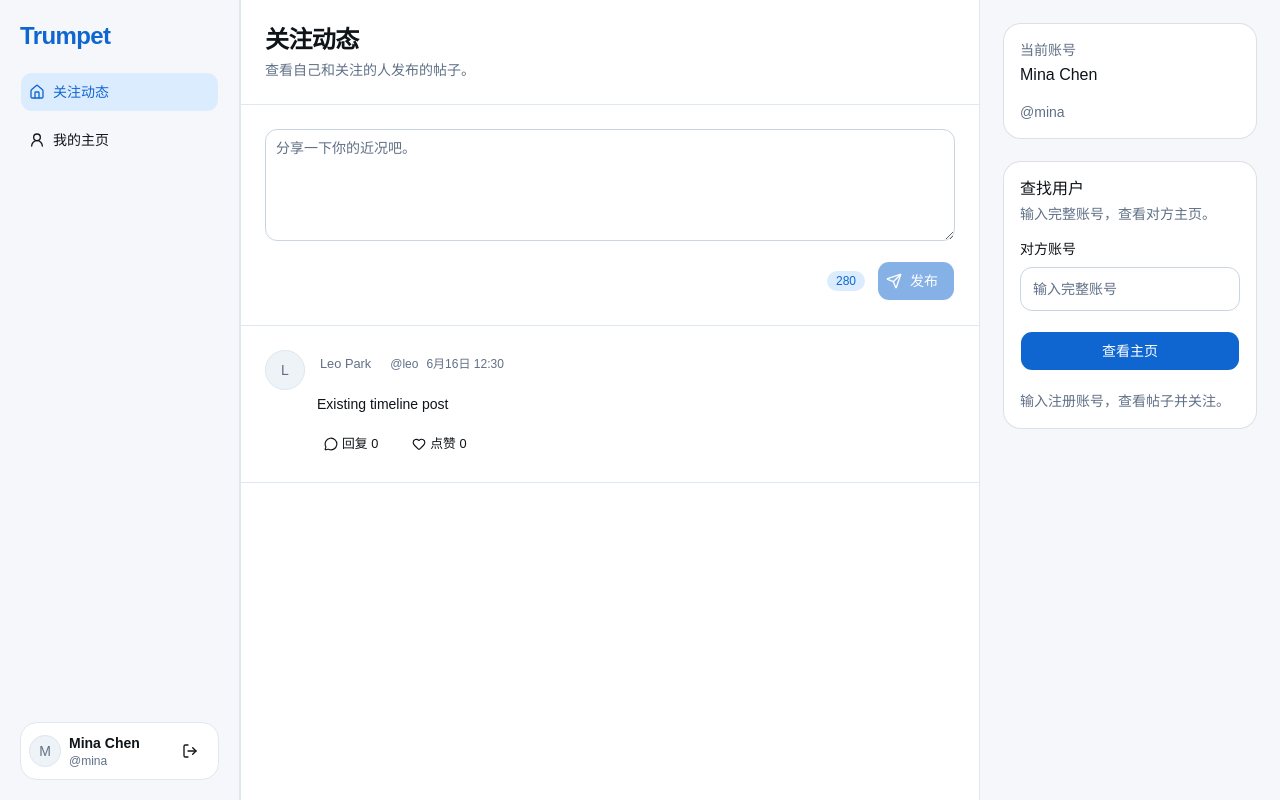
Test: App timeline interactions › creates replies and refreshes the timeline reply count
Expected: the text "Existing timeline post" is shown, [317,396,448,412]
Click the button "回复 0": (353, 444) [317,430,389,458]
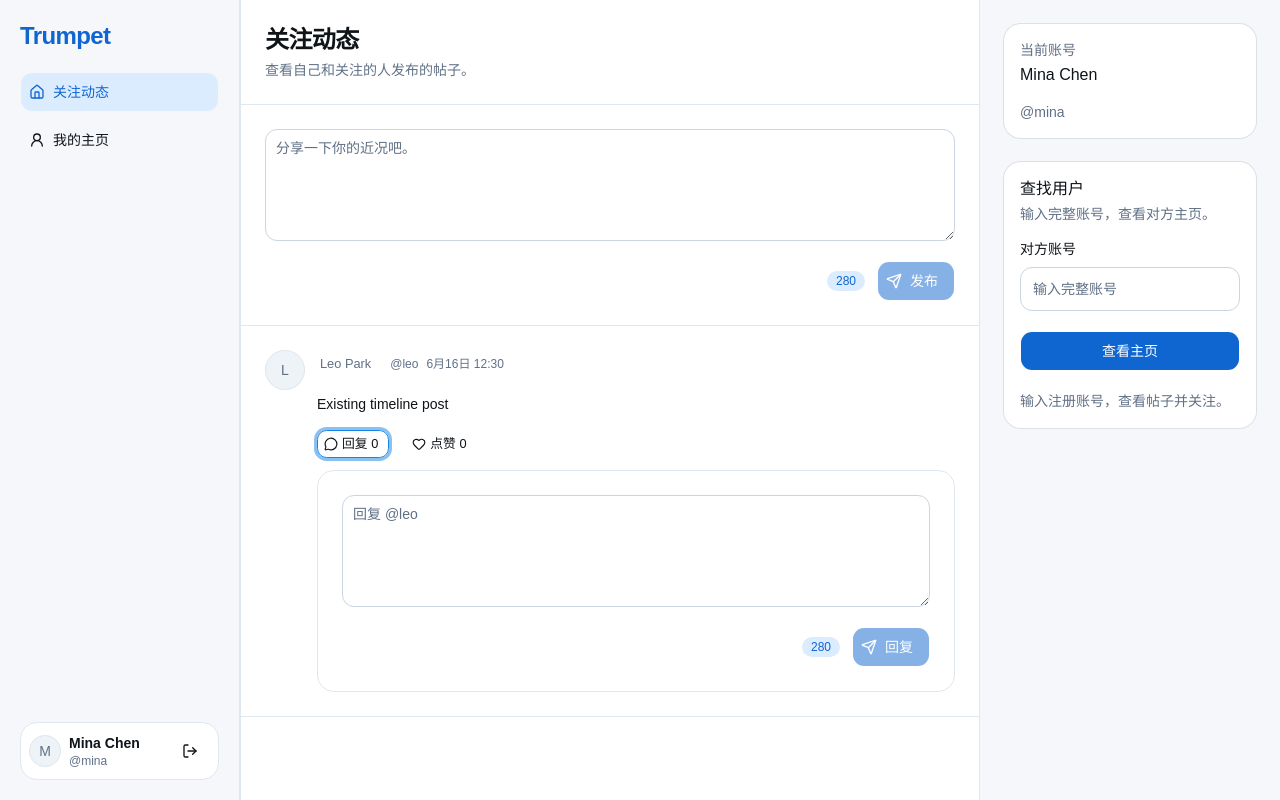
In the text box with placeholder "回复 @leo": (636, 551) [342,495,930,607], type "Reply body"
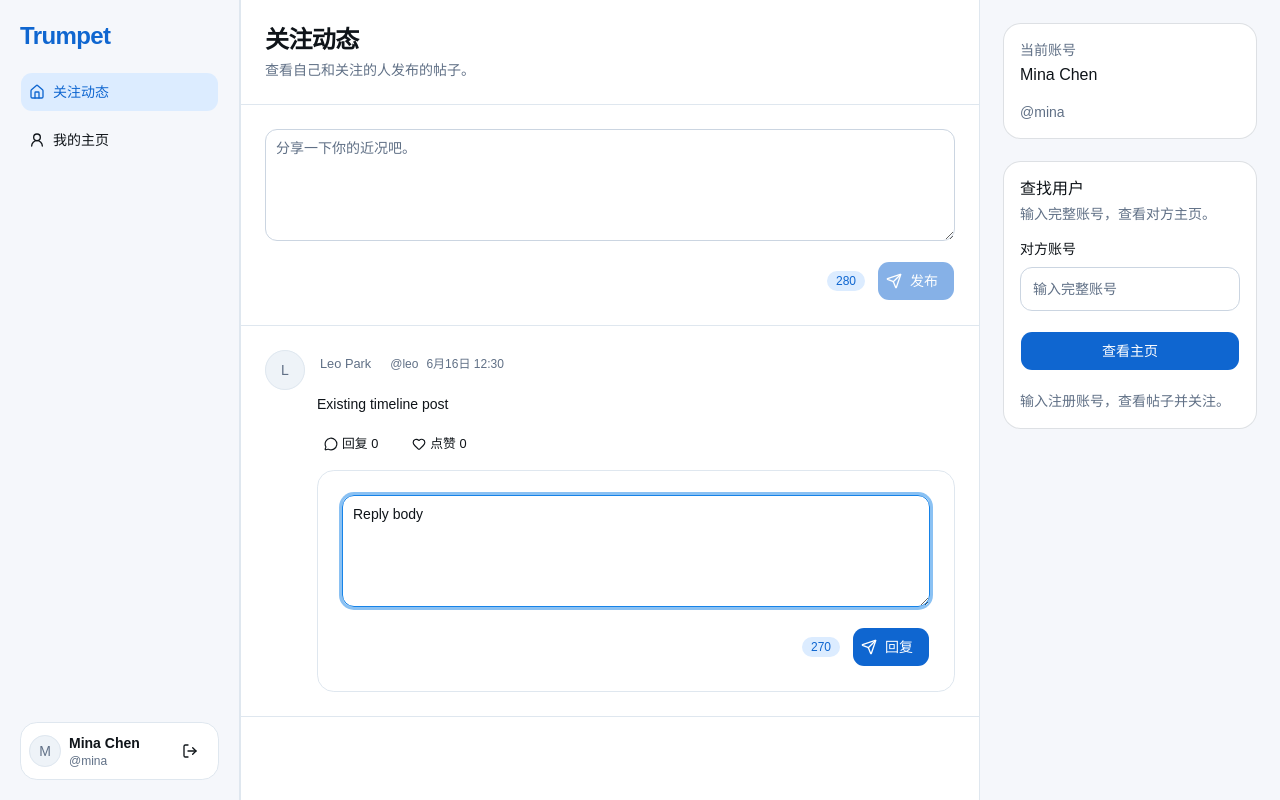
Click the button "回复": (891, 647) [852,627,930,667]
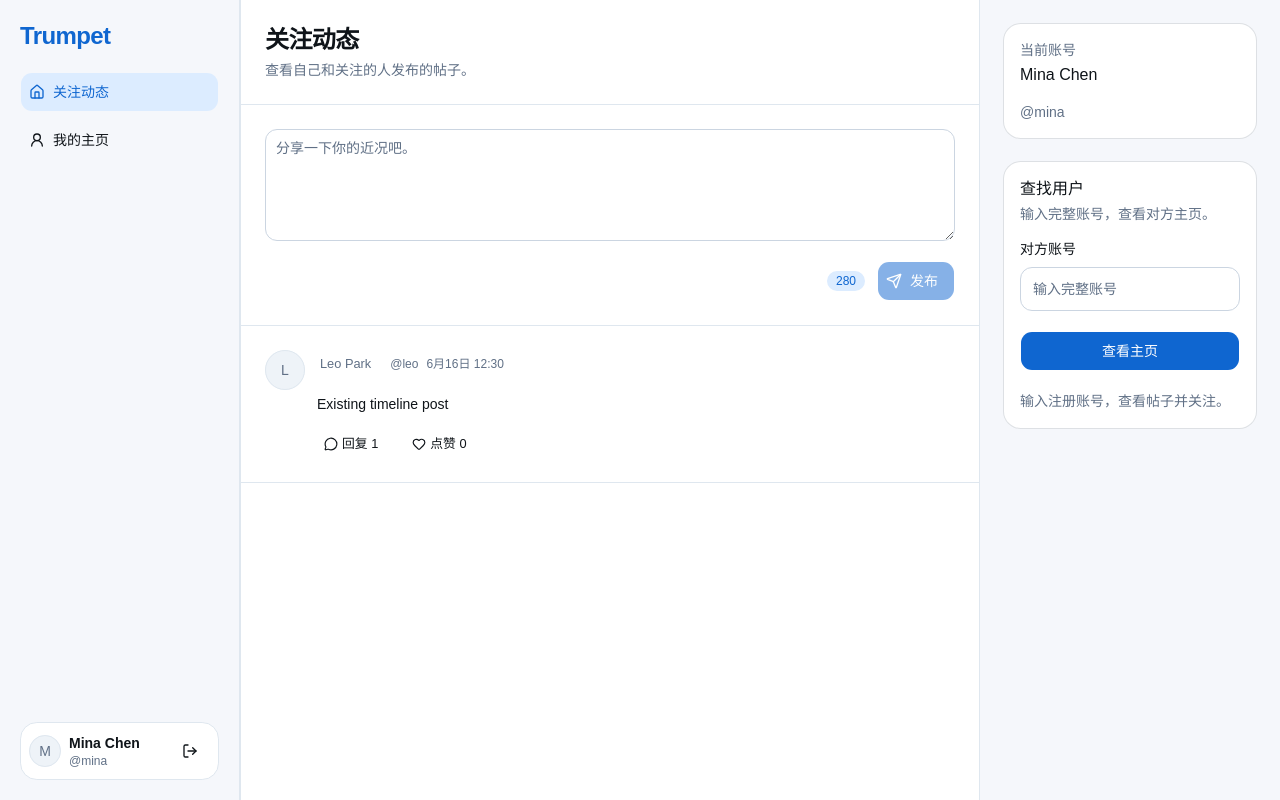
Expected: the button "回复 1" is shown, [317,430,389,458]
